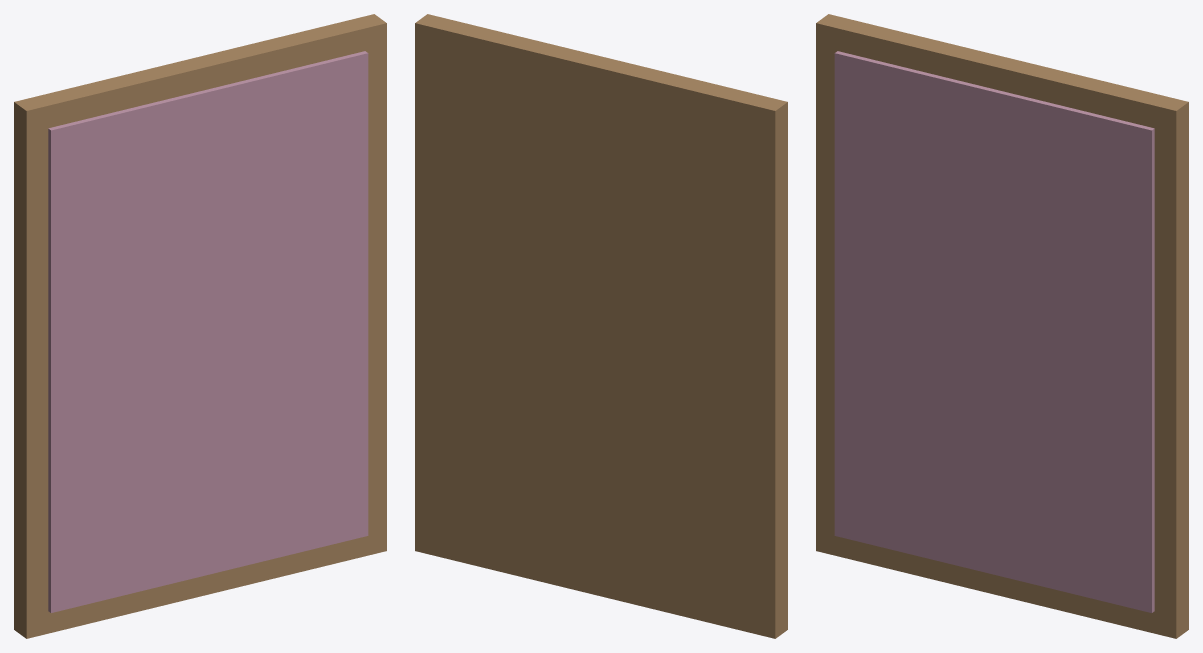
Rendered from WallArt.glb.
3 renders of one model, left to right at view 1: azimuth 30°, elevation 25°; view 2: azimuth 150°, elevation 25°; view 3: azimuth 330°, elevation 25°, orthographic.
Parts seen in each view (by area): view 1: WallArt; view 2: WallArt; view 3: WallArt.
Boxes of the visible parts, x1,y1,x2,y2 form: WallArt: (14, 14, 386, 638); WallArt: (415, 14, 787, 638); WallArt: (816, 14, 1188, 638).
Bounding box in the file's own units: 0.5 × 0.7 × 0.037.
